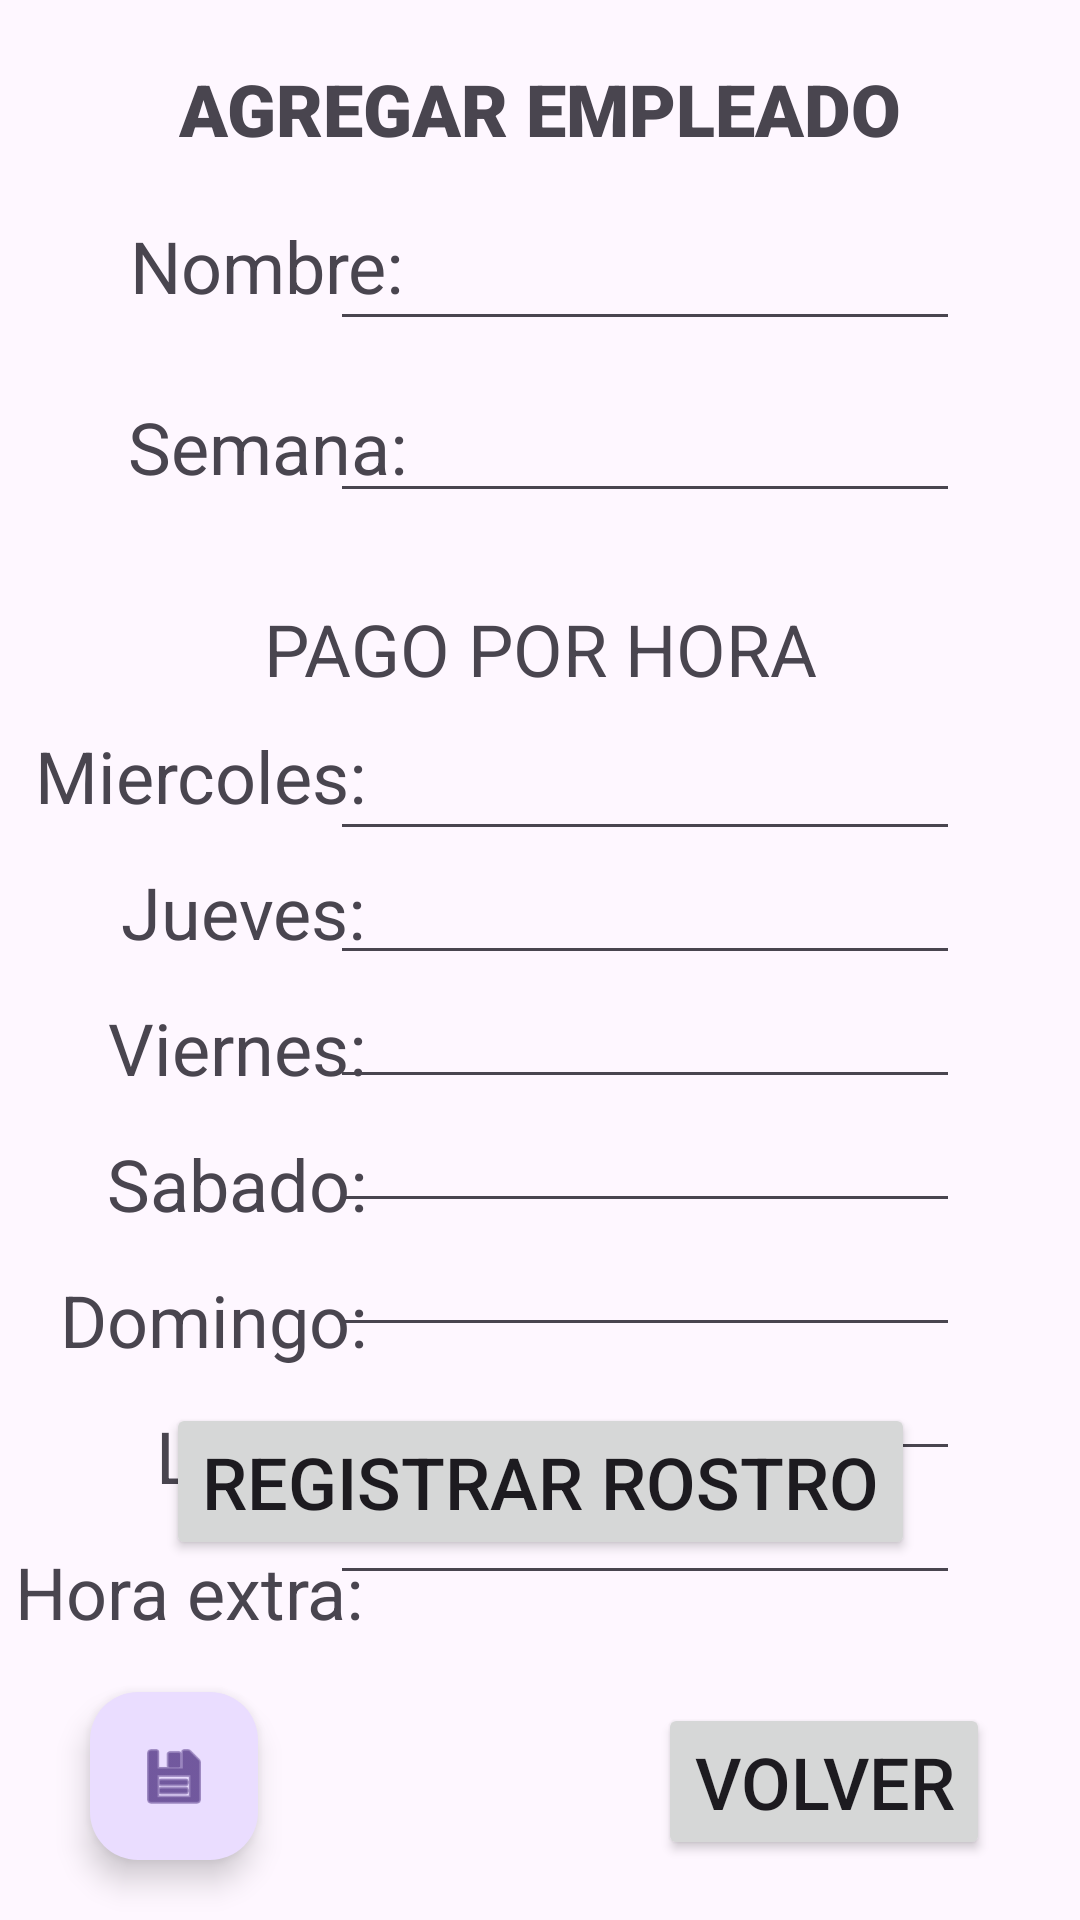

Icon bounding boxes for this 1080 x 1920 phone screenshot, format (x1, y1, x2, y2):
save: (90, 1692, 258, 1860)
